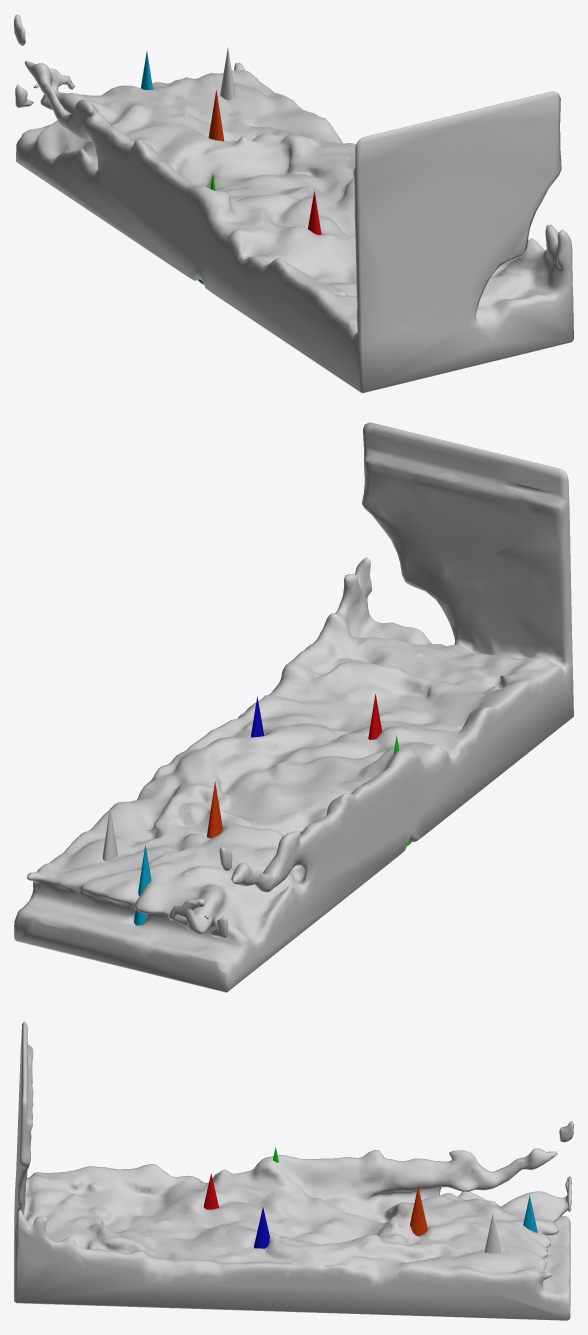
The picture shows the model from 3 angles, top to bottom: view 1: azimuth 30°, elevation 25°; view 2: azimuth 150°, elevation 25°; view 3: azimuth 270°, elevation 25°; orthographic projection. The views are drawn at different scales.
Parts seen in each view (by area): view 1: Liquid_Domain; view 2: Liquid_Domain; view 3: Liquid_Domain, 円錐.004, 円錐.002, 円錐.
Part boxes in pixels (x1,y1,x2,y2): Liquid_Domain: (14,14,573,393); Liquid_Domain: (14,422,573,992); Liquid_Domain: (14,1021,573,1320); 円錐.004: (410,1186,427,1236); 円錐.002: (254,1207,269,1248); 円錐: (484,1213,501,1253).
Bounding box in the file's own units: 129 × 158 × 363.
